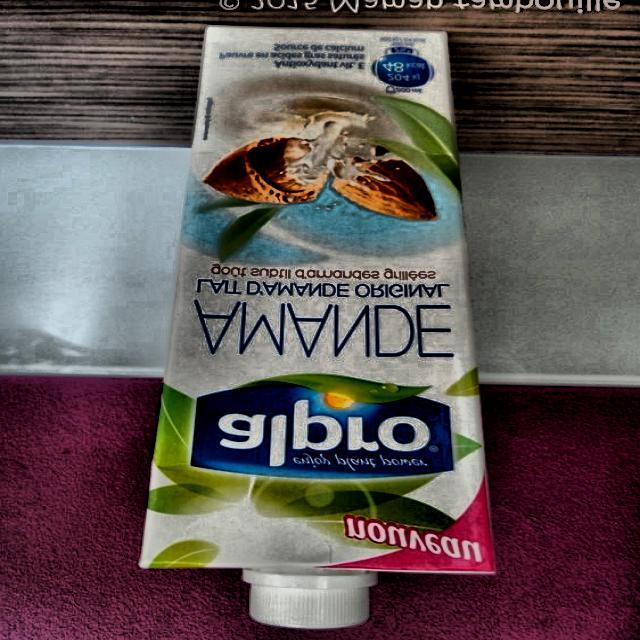cardboard: (138, 27, 496, 586)
